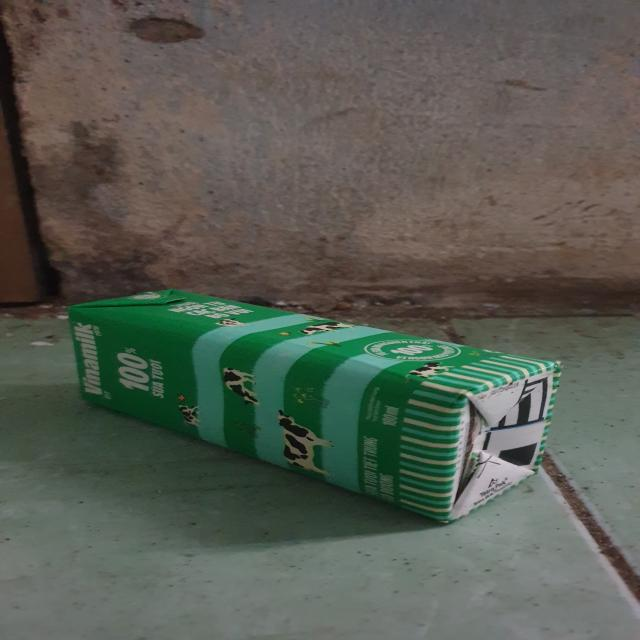Vina: (74, 285, 563, 520)
